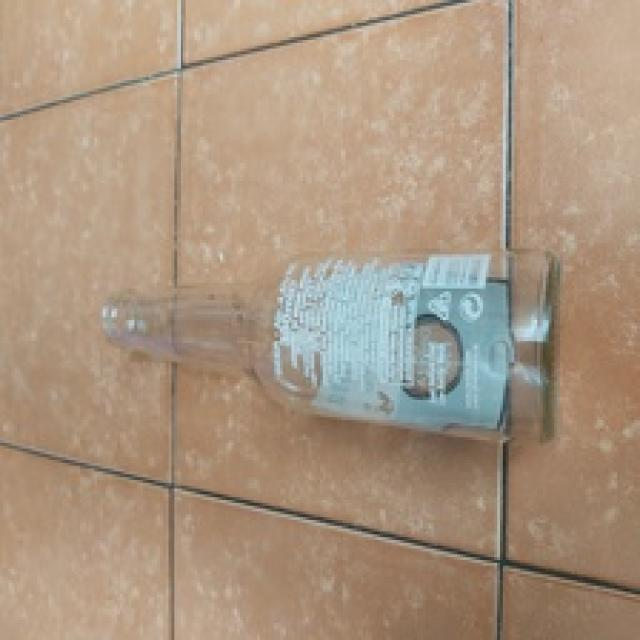Glass: (96, 247, 563, 452)
